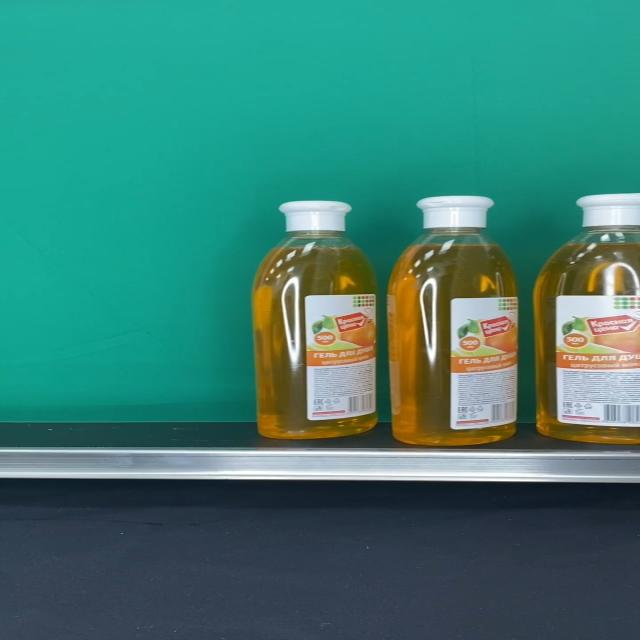Bottle: (387, 196, 518, 445), (254, 200, 376, 438)
Cap: (416, 196, 494, 229), (278, 200, 352, 232)
